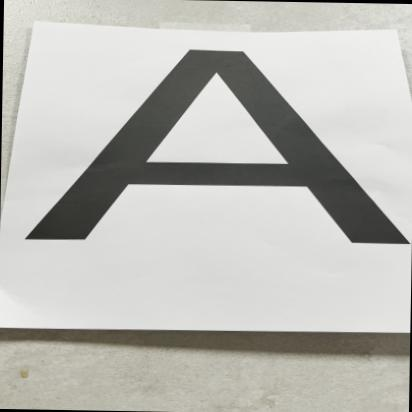seat: (0, 41, 412, 321)
